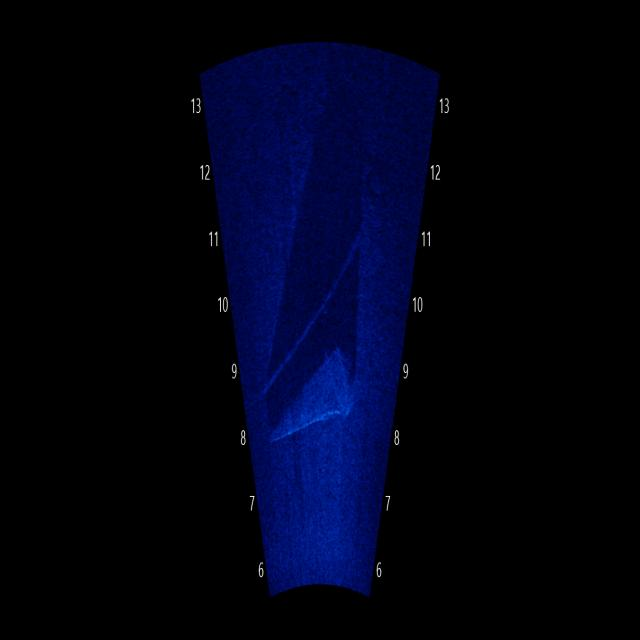triangle: (263, 337, 360, 456)
